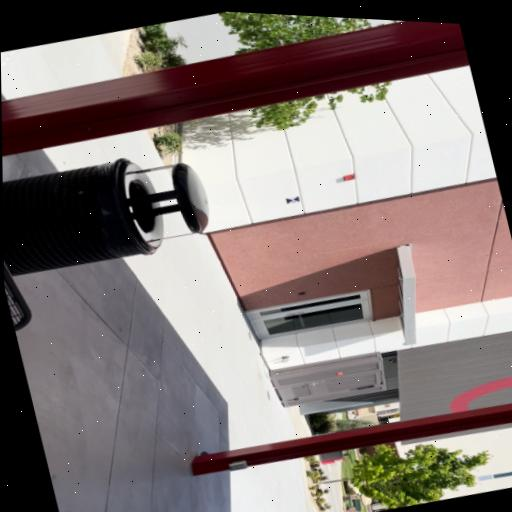target2: (286, 196, 300, 204)
